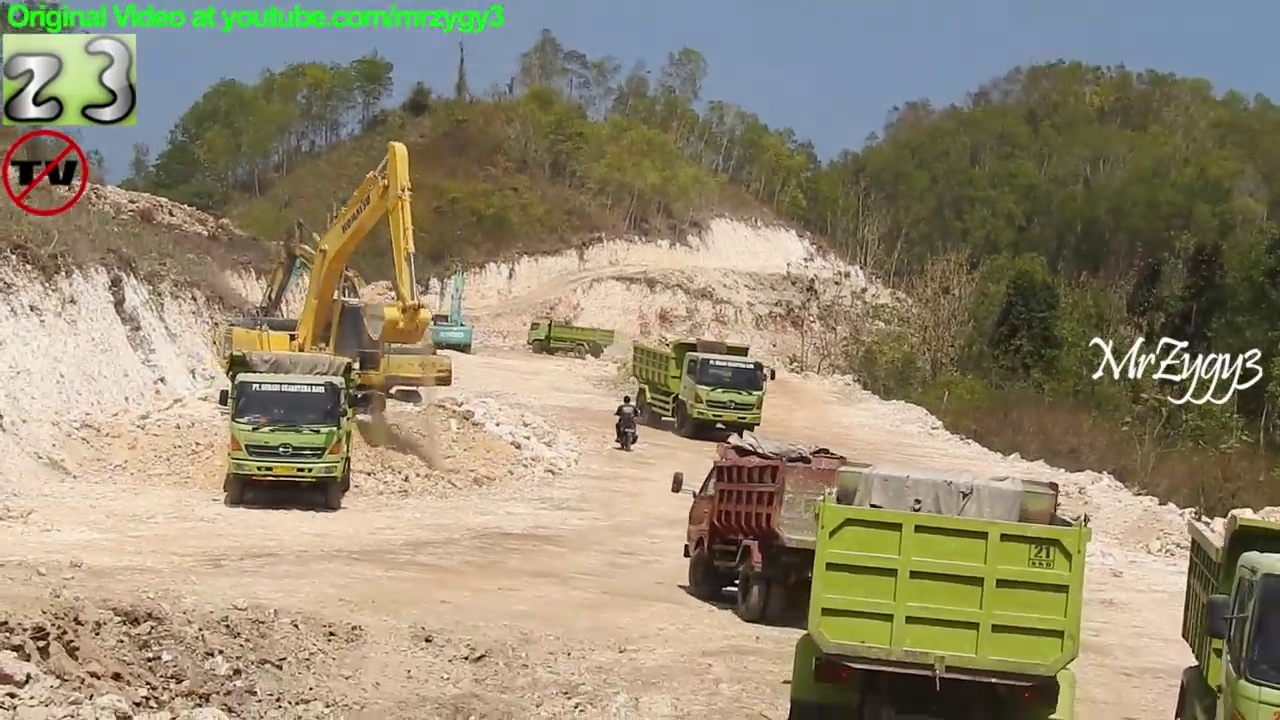excavator: (216, 134, 436, 414), (222, 214, 455, 412), (253, 251, 422, 383), (427, 261, 479, 358)
truck: (788, 459, 1097, 720), (667, 434, 936, 628), (220, 350, 369, 510), (1174, 503, 1280, 716), (627, 333, 781, 438), (524, 317, 616, 365)
